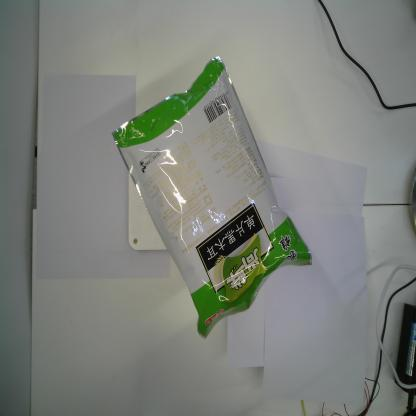Dried Food: (110, 50, 314, 344)
